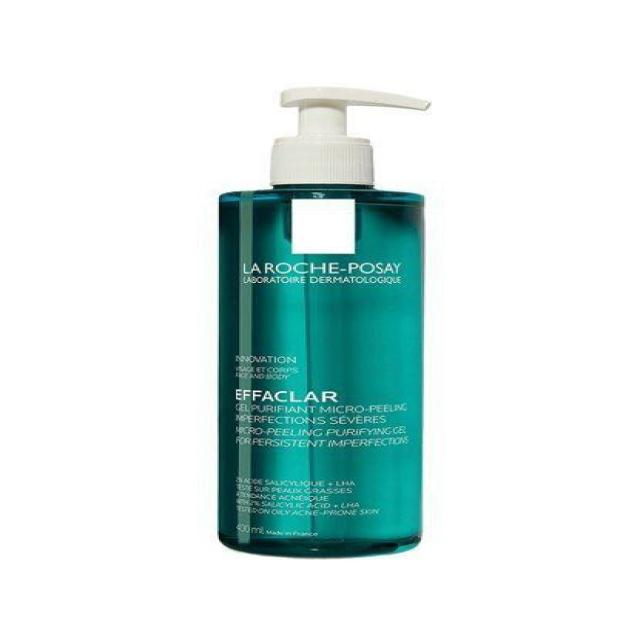cosmotic: (216, 194, 427, 547)
